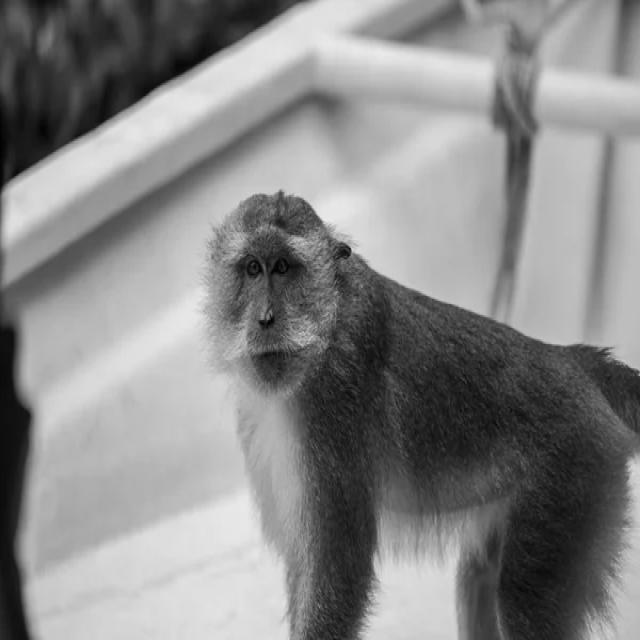Animal: (207, 192, 640, 639)
